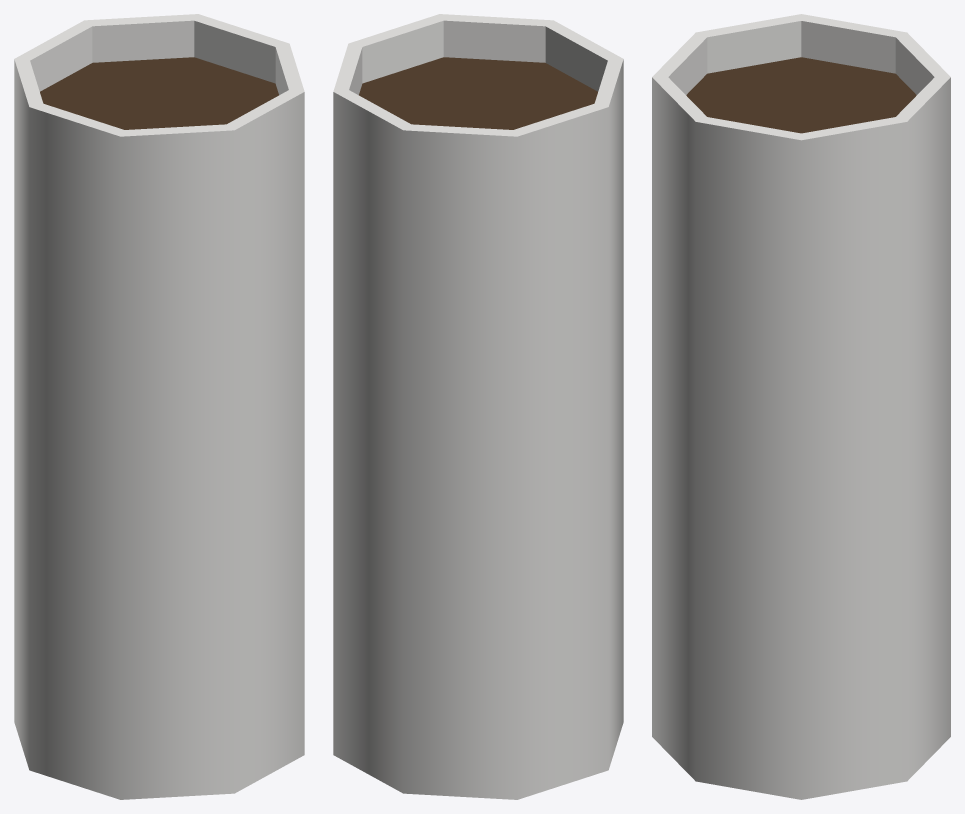
File: SM_latte.fbx
3 views of the same model, side by side, from view 1: azimuth 30°, elevation 25°; view 2: azimuth 150°, elevation 25°; view 3: azimuth 270°, elevation 25° (orthographic).
Parts seen in each view (by area): view 1: Line015; view 2: Line015; view 3: Line015.
Boxes of the visible parts, left/top/right/bottom form: Line015: left=14, top=14, right=304, bottom=799; Line015: left=333, top=14, right=623, bottom=799; Line015: left=652, top=14, right=950, bottom=799.
Size of the model in its own units: 3.35 by 3.35 by 8.16.
